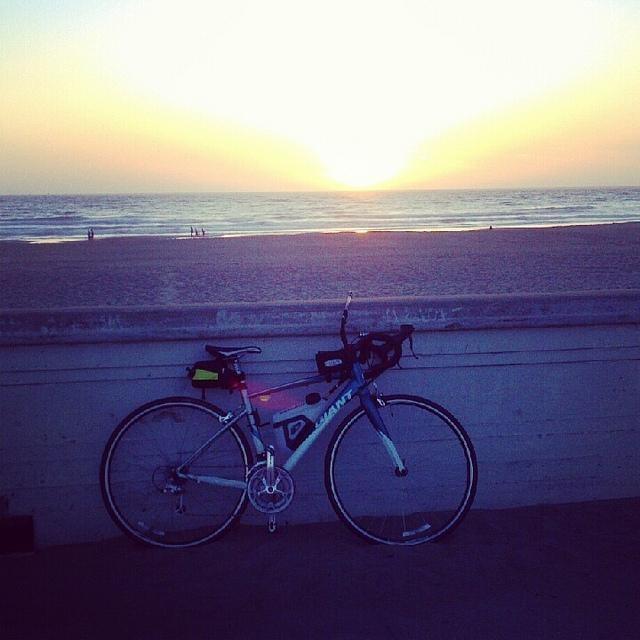bicycle: (99, 290, 480, 552)
